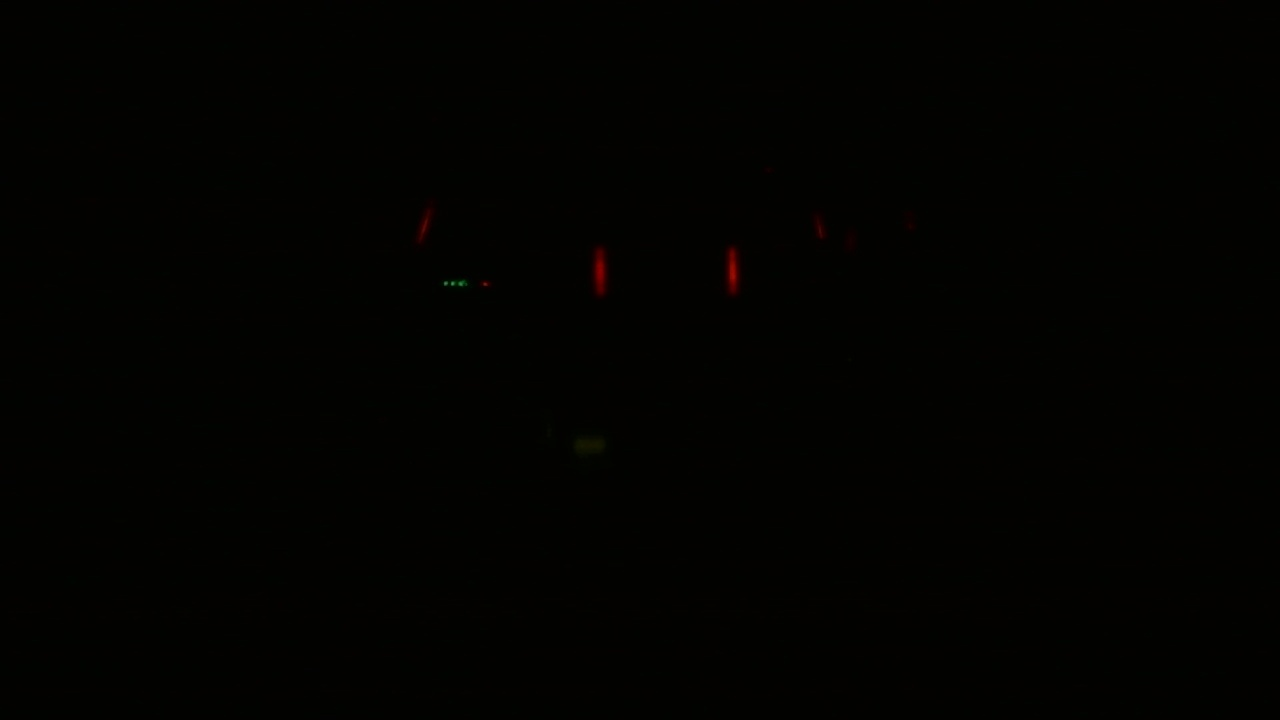pair1: (592, 242, 739, 299)
